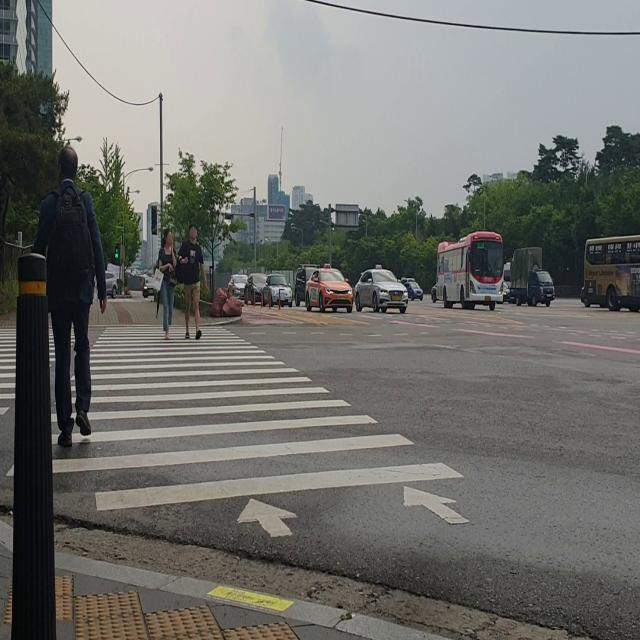초록불: (114, 244, 120, 260)
횡단보도: (0, 324, 471, 542)
